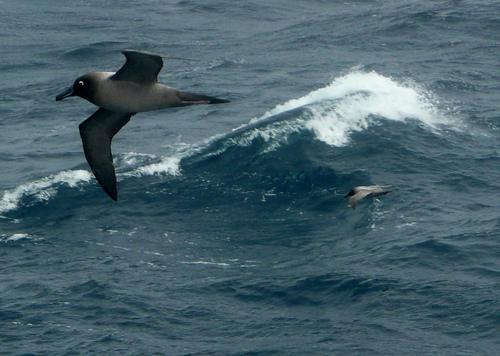003.Sooty_Albatross: (55, 50, 228, 202), (344, 183, 390, 209)
